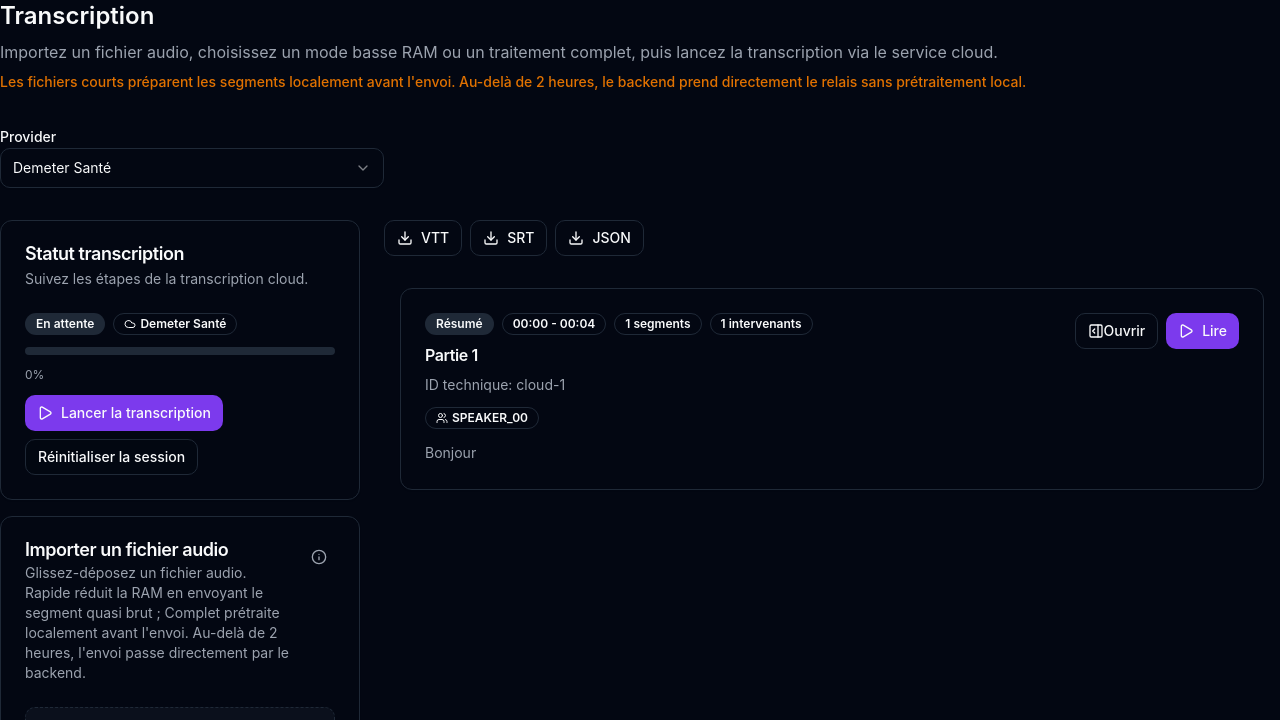
Test case: CloudUploadPage › clears the active chunk when cloudShowSegments is disabled
What coordinates should you click on to do the following:
click the button "Ouvrir"
I would click on:
 (1116, 331)
Its box is top-left (1074, 313), bottom-right (1158, 349).
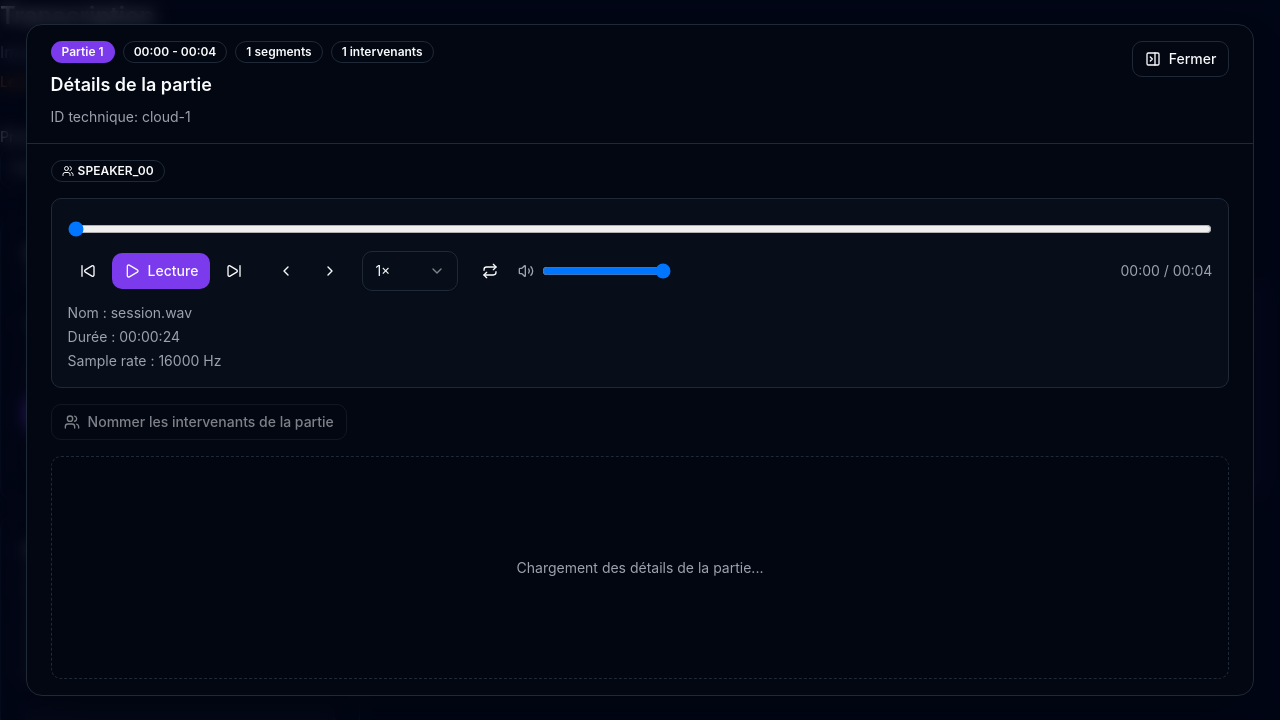
Expected: the dialog with test id "cloud-chunk-details-cloud-1" is shown
